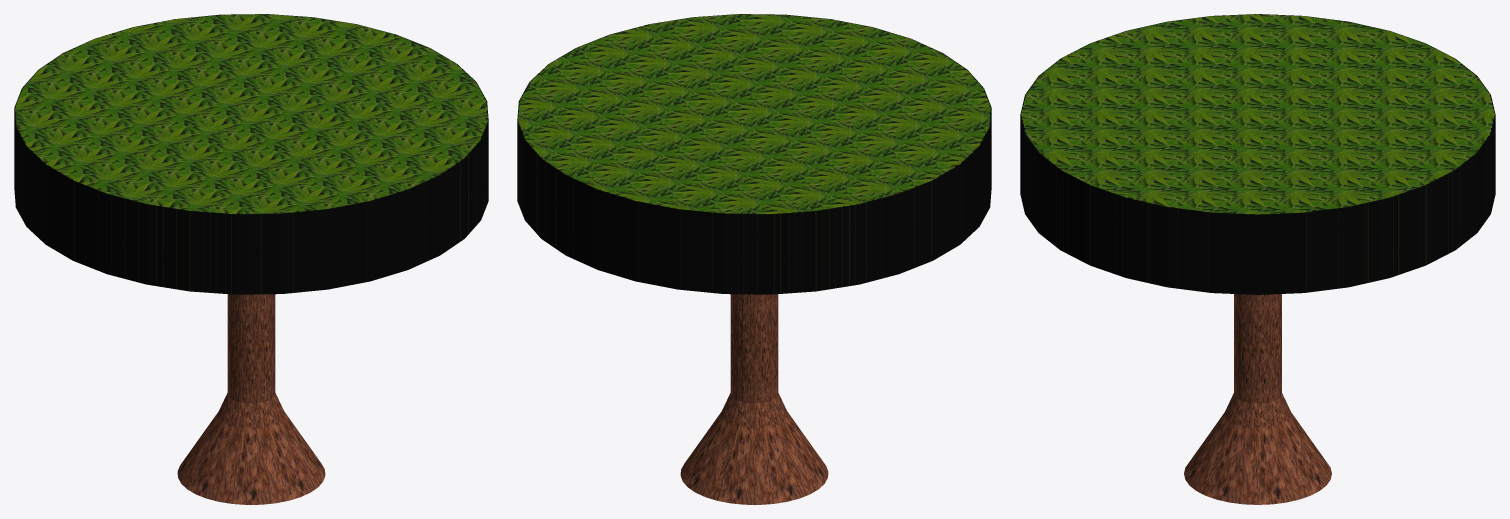
The model's file is umbrella_tree.glb.
The picture shows the model from 3 angles, left to right: view 1: azimuth 30°, elevation 25°; view 2: azimuth 150°, elevation 25°; view 3: azimuth 270°, elevation 25°; orthographic projection.
Parts seen in each view (by area): view 1: Tree; view 2: Tree; view 3: Tree.
Boxes of the visible parts, x1,y1,x2,y2 form: Tree: (14, 14, 488, 504); Tree: (517, 14, 991, 504); Tree: (1020, 14, 1495, 504).
Size of the model in its own units: 9.95 by 8.3 by 9.95.
2 materials, 2 textured.
